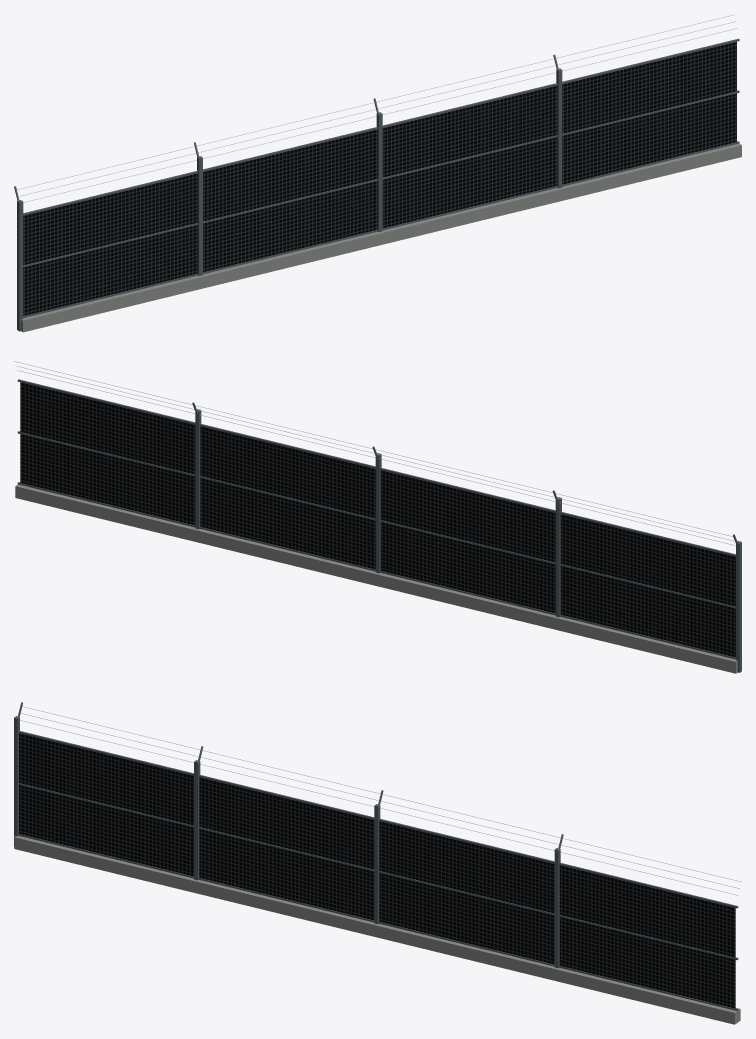
The model's file is station-fence-long.glb.
The picture shows the model from 3 angles, top to bottom: view 1: azimuth 30°, elevation 25°; view 2: azimuth 150°, elevation 25°; view 3: azimuth 330°, elevation 25°; orthographic projection.
Visible parts, largest first — view 1: 围栏; view 2: 围栏; view 3: 围栏.
Part boxes in pixels (x1=…): 围栏: x1=14, y1=14, x2=741, y2=332; 围栏: x1=14, y1=361, x2=741, y2=673; 围栏: x1=14, y1=702, x2=741, y2=1024.
Bounding box in the file's own units: 16.05 × 2.99 × 0.3232.
Materials: 3 (1 with a texture image).
